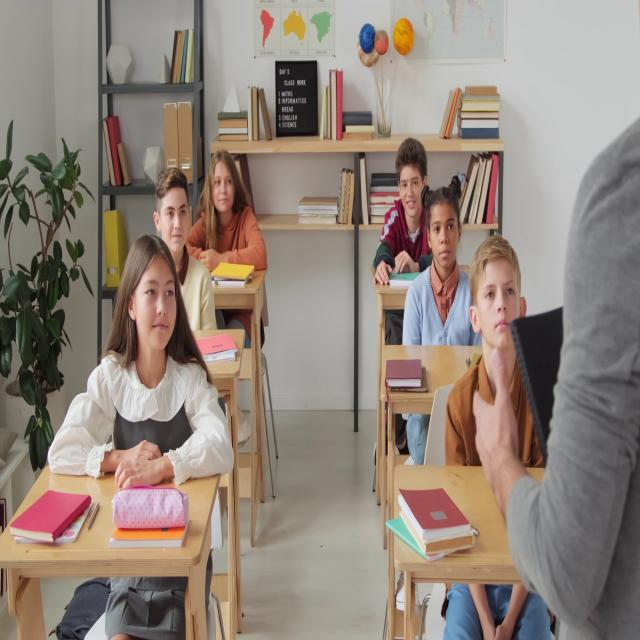listening: (49, 244, 241, 640), (188, 150, 268, 448), (443, 242, 545, 468), (403, 185, 476, 353), (154, 170, 219, 334), (371, 136, 429, 287)
